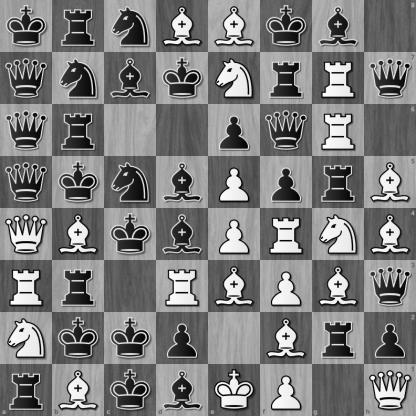B: (364, 156, 416, 209), (52, 364, 104, 416), (364, 209, 416, 260), (53, 209, 104, 260), (157, 1, 208, 52), (209, 1, 260, 52), (209, 261, 260, 312), (261, 313, 312, 364), (313, 261, 364, 312)
K: (209, 364, 260, 416)
N: (1, 313, 52, 364), (209, 53, 260, 104), (313, 209, 364, 260)
P: (260, 364, 312, 416), (209, 157, 260, 208), (209, 209, 260, 260), (261, 261, 312, 312)
Q: (364, 364, 416, 416), (1, 209, 52, 260)
R: (1, 261, 52, 312), (157, 261, 208, 312), (261, 209, 312, 260), (313, 53, 364, 104), (313, 105, 364, 156)
b: (156, 364, 209, 416), (105, 53, 156, 104), (157, 157, 208, 208), (157, 209, 208, 260), (313, 1, 364, 52)
board: (0, 0, 415, 415)
k: (104, 364, 156, 416), (1, 1, 52, 52), (53, 157, 104, 208), (53, 313, 104, 364), (105, 209, 156, 260), (105, 313, 156, 364), (157, 53, 208, 104), (261, 1, 312, 52)
n: (53, 53, 104, 104), (105, 1, 156, 52), (105, 157, 156, 208)
p: (364, 312, 416, 364), (157, 313, 208, 364), (209, 105, 260, 156), (261, 157, 312, 208)
q: (364, 52, 416, 104), (364, 260, 416, 312), (1, 53, 52, 104), (1, 105, 52, 156), (1, 157, 52, 208), (261, 105, 312, 156)
r: (0, 364, 52, 416), (53, 1, 104, 52), (53, 105, 104, 156), (53, 261, 104, 312), (261, 53, 312, 104), (313, 157, 364, 208), (313, 313, 364, 364)
